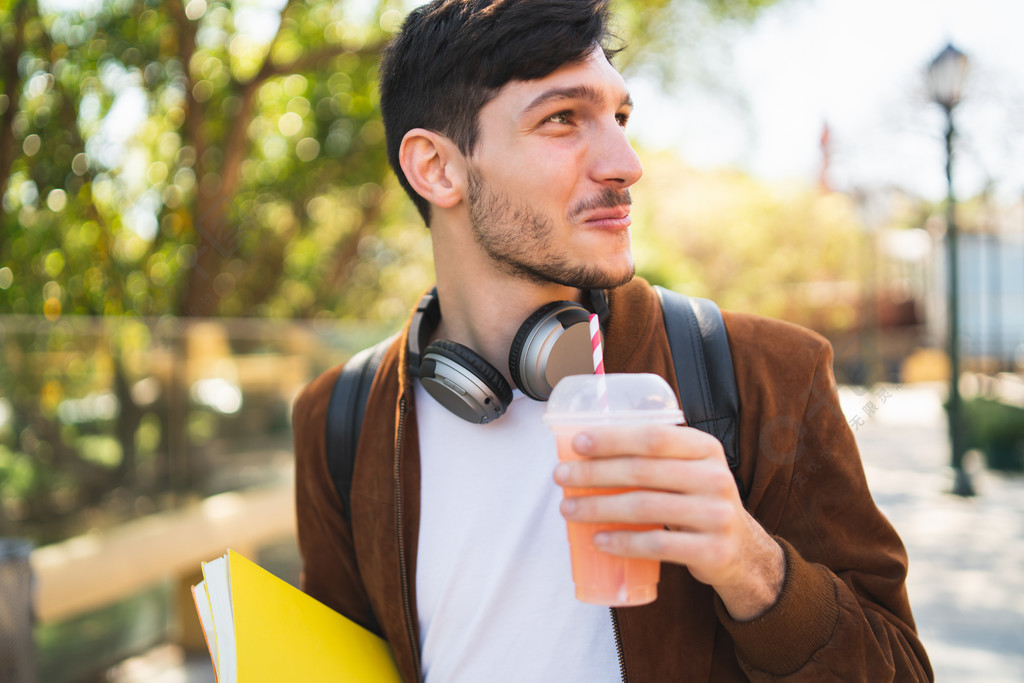no-phone: (542, 366, 758, 605)
